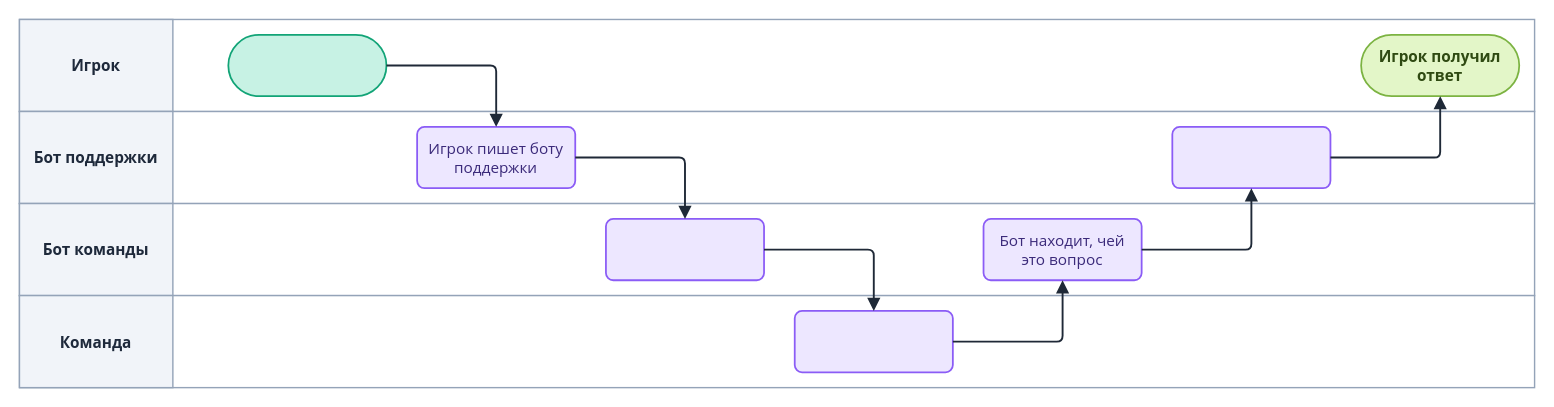
Some shapes in this 1554 by 407 pixel diagram are drawn without their labels. The shapes that lost their labels are listed below. From the top down, each one's centre as x and y in pixels, then its label:
the point at 307,65: У игрока вопрос к клубу
the point at 1251,157: Бот отправляет ответ игроку
the point at 684,249: Бот пересылает вопрос команде
the point at 873,341: Менеджер отвечает на сообщение
